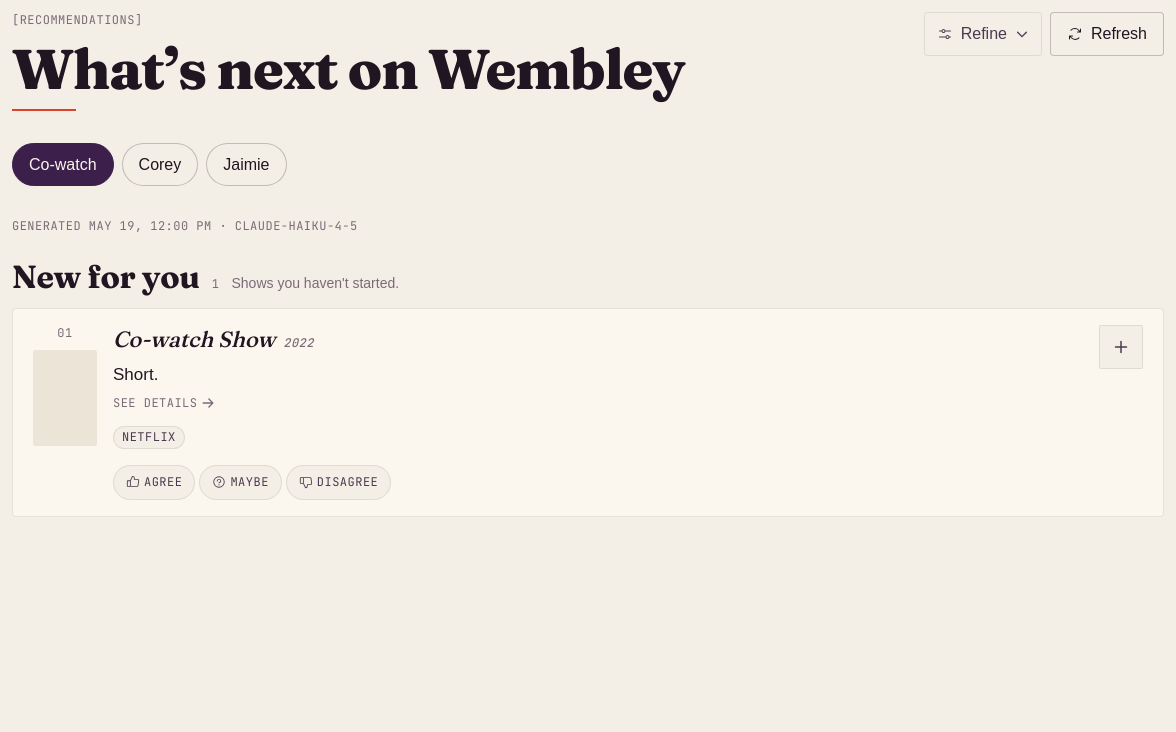
Test: RecsView — populated lists › switches to Corey's tab on click
Click the tab with aria-label "corey's picks". click: point(160, 165)
box: [122,143,198,186]
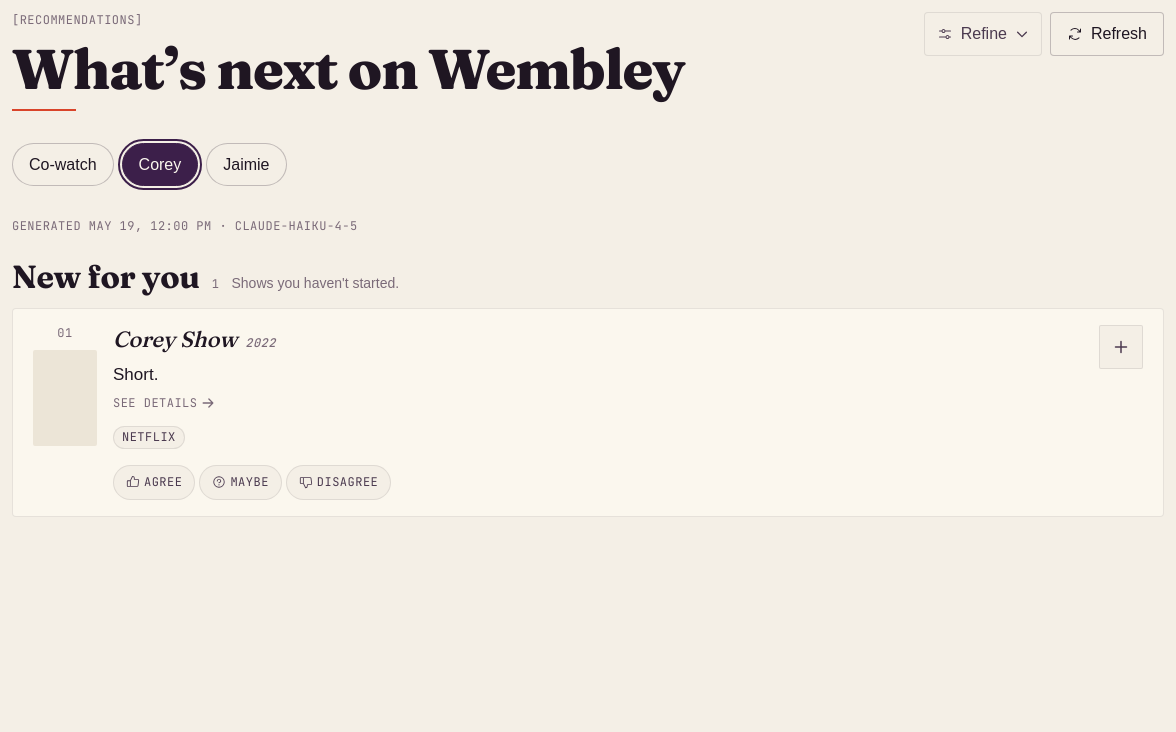
Check: the link "Corey Show" is shown, box [113,325,237,353]
Check: the link "Co-watch Show" is gone
